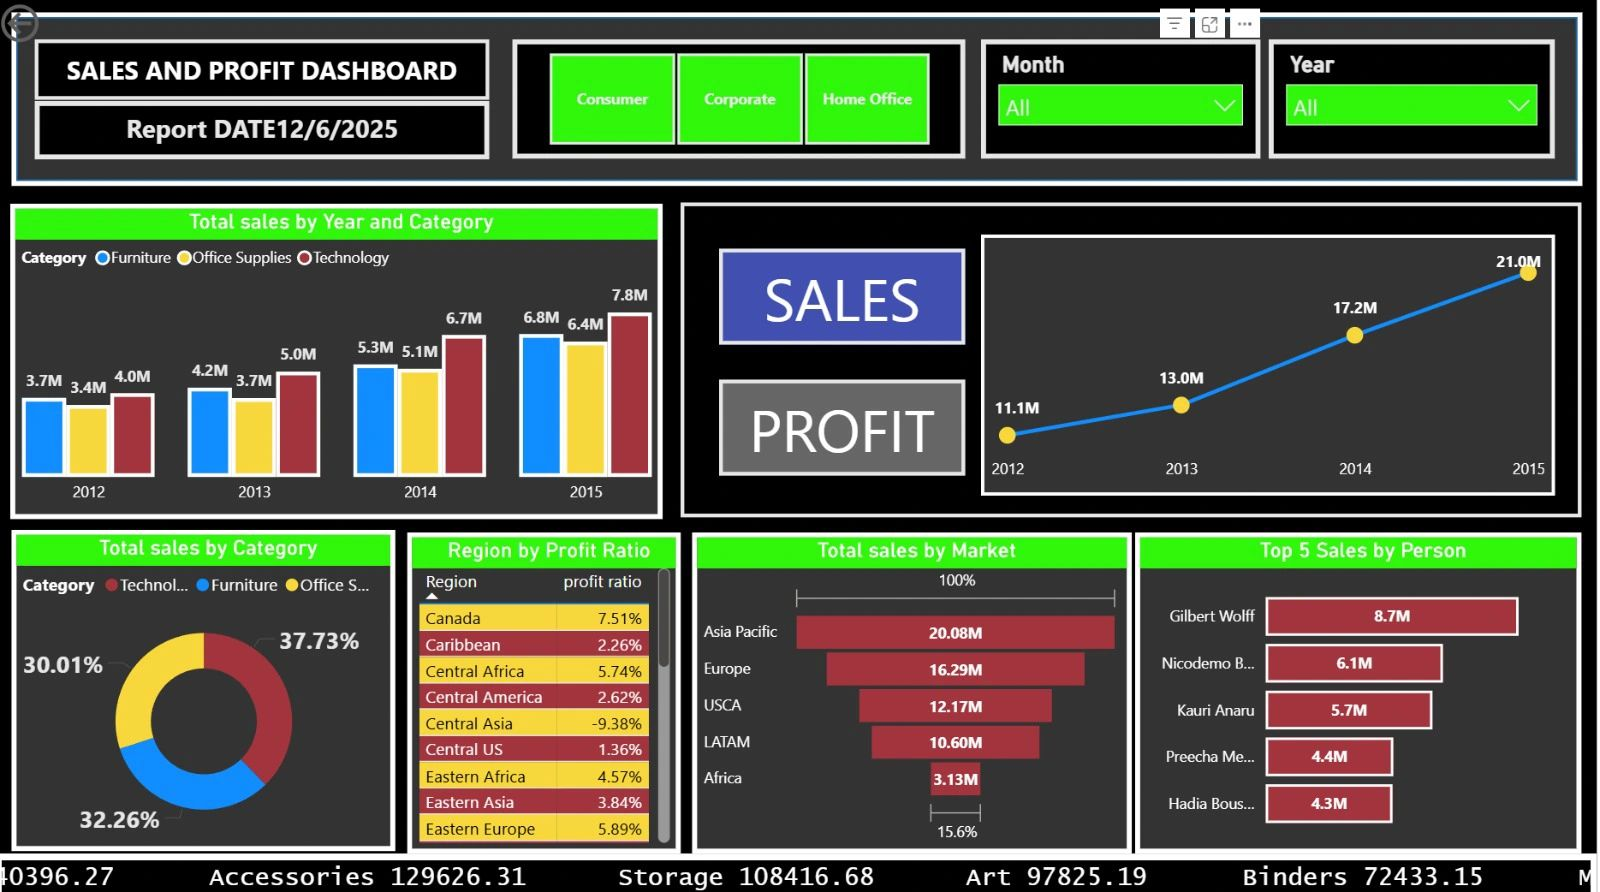

This screenshot's page, from the dashboard's own definition file:
{"tool":"powerbi","page":{"name":"DASHBOARD","canvas":[1280,720],"ordinal":0},"visuals":[{"type":"shape","box":[548.3,163.3,720,251.7],"z":0},{"type":"ScrollingTextVisual1448795304508","fields":{"Category":["Orders.Sub-Category"],"Measure Absolute":["Sum(Orders.Profit)"]},"box":[0,683.3,1279.8,37.2],"z":1000},{"type":"barChart","title":"Top 5 Sales by Person","fields":{"Category":["People.Person"],"Y":["Sum(Orders.sales)"]},"box":[911.7,426.7,356.7,256.7],"z":2000},{"type":"funnel","title":"Total sales by Market","fields":{"Category":["Orders.Market"],"Y":["Sum(Orders.sales)"]},"box":[557.6,426.9,351.2,256.7],"z":3000},{"type":"tableEx","title":"Region by Profit Ratio","fields":{"Values":["Orders.Region","Date Table.profit ratio"]},"box":[329.2,426.9,218.9,256.7],"z":4000},{"type":"donutChart","title":"Total sales by Category","fields":{"Category":["Orders.Category"],"Y":["Sum(Orders.sales)"]},"box":[13.3,425,306.7,256.7],"z":5000},{"type":"clusteredColumnChart","title":"Total sales by Year and Category","fields":{"Category":["Date Table.Date.Variation.Date Hierarchy.Year"],"Y":["Sum(Orders.sales)"],"Series":["Orders.Category"]},"box":[12.6,163.8,521.4,252],"z":6000},{"type":"shape","box":[13.3,11.7,1255,138.3],"z":7000},{"type":"lineChart","fields":{"Category":["Date Table.Date.Variation.Date Hierarchy.Year"],"Y":["Sum(Orders.sales)"]},"box":[788.3,188.3,458.3,208.3],"z":8000},{"type":"shape","title":"s_blue","box":[578.3,200,196.7,76.7],"z":10000},{"type":"shape","title":"p_grey","box":[578.3,305,196.7,76.7],"z":13000},{"type":"slicer","fields":{"Values":["Date Table.Date.Variation.Date Hierarchy.Year"]},"box":[1018.3,33.3,228.3,95],"z":14000},{"type":"slicer","fields":{"Values":["Date Table.Date.Variation.Date Hierarchy.Month"]},"box":[788.3,33.3,223.3,95],"z":15000},{"type":"slicer","fields":{"Values":["Orders.Segment"]},"box":[413.3,33.3,361.7,95],"z":16000},{"type":"shape","box":[31.7,33.3,363.3,48.3],"z":17000},{"type":"card","fields":{"Values":["Date Table.report date"]},"box":[31.7,81.7,363.3,46.7],"z":18000},{"type":"actionButton","box":[0,0,100,40],"z":19000}]}

Visuals, with their boxes in screenshot pixels (x1, y1, x2, y2), scaled from the page's 1280x720 canvas onto the 1600x892 screenshot:
shape: (x1=685, y1=202, x2=1585, y2=514)
ScrollingTextVisual1448795304508 - Orders.Sub-Category x Sum(Orders.Profit): (x1=0, y1=847, x2=1599, y2=891)
"Top 5 Sales by Person" barChart: (x1=1140, y1=529, x2=1586, y2=847)
"Total sales by Market" funnel: (x1=697, y1=529, x2=1136, y2=847)
"Region by Profit Ratio" tableEx: (x1=412, y1=529, x2=685, y2=847)
"Total sales by Category" donutChart: (x1=17, y1=527, x2=400, y2=845)
"Total sales by Year and Category" clusteredColumnChart: (x1=16, y1=203, x2=668, y2=515)
shape: (x1=17, y1=14, x2=1585, y2=186)
lineChart - Date Table.Date.Variation.Date Hierarchy.Year x Sum(Orders.sales): (x1=985, y1=233, x2=1558, y2=491)
"s_blue" shape: (x1=723, y1=248, x2=969, y2=343)
"p_grey" shape: (x1=723, y1=378, x2=969, y2=473)
slicer - Date Table.Date.Variation.Date Hierarchy.Year: (x1=1273, y1=41, x2=1558, y2=159)
slicer - Date Table.Date.Variation.Date Hierarchy.Month: (x1=985, y1=41, x2=1264, y2=159)
slicer - Orders.Segment: (x1=517, y1=41, x2=969, y2=159)
shape: (x1=40, y1=41, x2=494, y2=101)
card - Date Table.report date: (x1=40, y1=101, x2=494, y2=159)
actionButton: (x1=0, y1=0, x2=125, y2=50)
